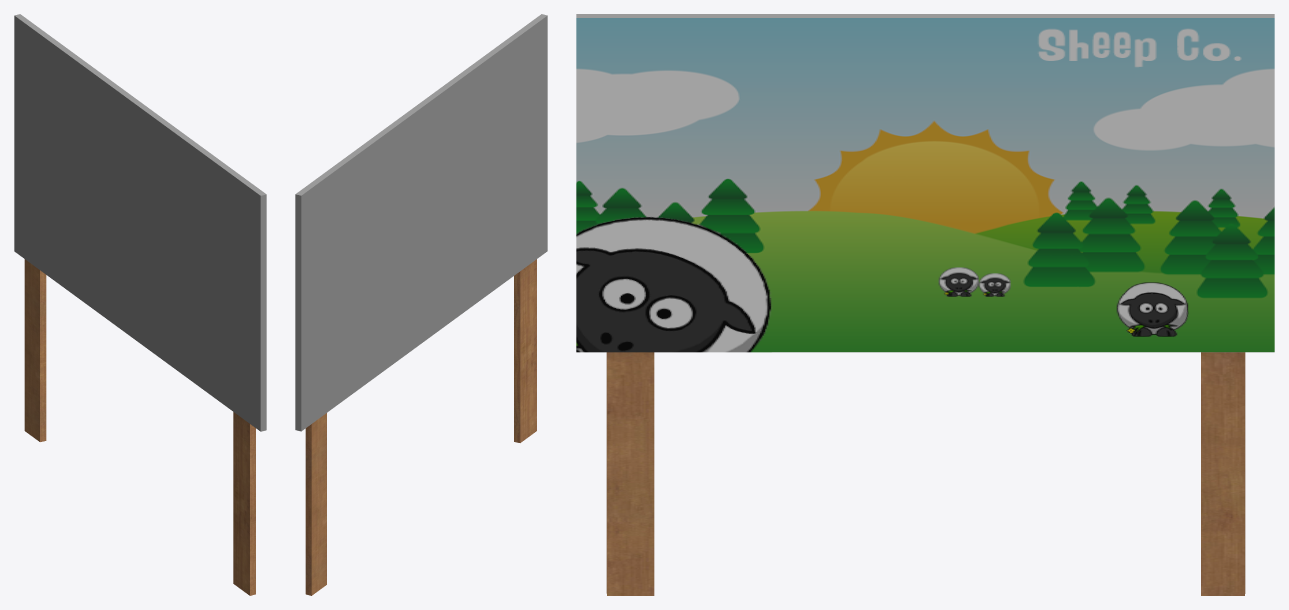
The model's file is Billboard_Sheep.fbx.
3 renders of one model, left to right at view 1: azimuth 30°, elevation 25°; view 2: azimuth 150°, elevation 25°; view 3: azimuth 270°, elevation 25°, orthographic. The views are drawn at different scales.
Visible parts, largest first — view 1: pCube1; view 2: pCube1; view 3: pCube1.
Part boxes in pixels (x1,y1,x2,y2): pCube1: [14, 14, 266, 595]; pCube1: [295, 14, 547, 595]; pCube1: [576, 14, 1274, 595].
Size of the model in its own units: 0.1374 by 8.96 by 9.81.
Materials: 2 (1 with a texture image).
